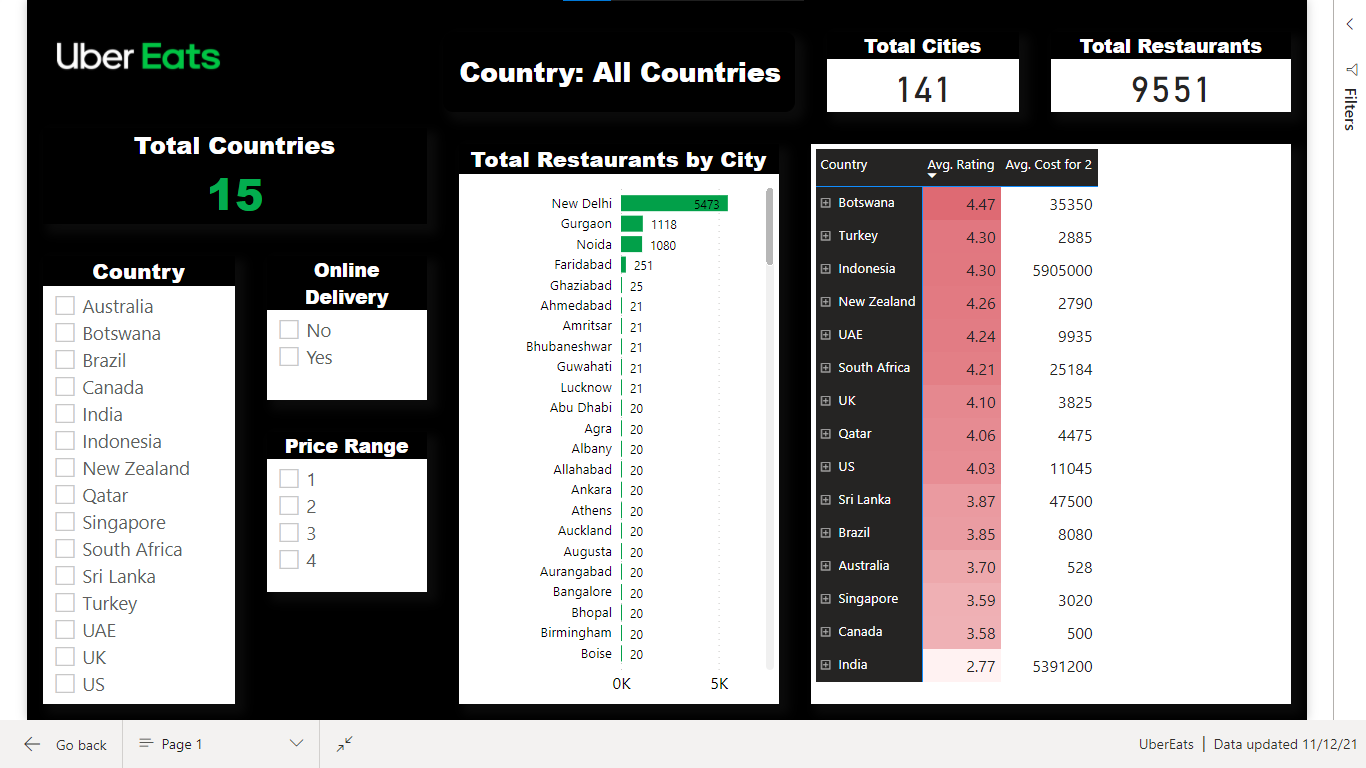

Layout of this report page (visuals, bound fields, positions):
{"tool":"powerbi","page":{"name":"Page 1","canvas":[1280,720],"ordinal":0},"visuals":[{"type":"card","title":"Total Restaurants","fields":{"Values":["Count(ZomatoData.RestaurantID)"]},"box":[1024,32,240,80],"z":0},{"type":"card","title":"Total Countries","fields":{"Values":["Count(ZomatoData.CountryCode)"]},"box":[16,128,384,96],"z":1000},{"type":"card","title":"Total Cities","fields":{"Values":["Count(ZomatoData.City)"]},"box":[800,32,192,80],"z":2000},{"type":"slicer","title":"Country","fields":{"Values":["ZomatoData.Country"]},"box":[16,256,192,448],"z":3000},{"type":"slicer","title":"Price Range","fields":{"Values":["ZomatoData.Price_range"]},"box":[240,432,160,160],"z":4000},{"type":"slicer","title":"Online Delivery","fields":{"Values":["ZomatoData.Has_Online_delivery"]},"box":[240,256,160,144],"z":5000},{"type":"clusteredBarChart","title":"Total Restaurants by City","fields":{"Category":["ZomatoData.City"],"Y":["CountNonNull(ZomatoData.RestaurantID)"]},"box":[432,144,320,560],"z":6000},{"type":"card","fields":{"Values":["All Measures.Selected Country"]},"box":[416,32,352,80],"z":7000},{"type":"pivotTable","fields":{"Rows":["ZomatoData.Country","ZomatoData.RestaurantName"],"Values":["Avg(ZomatoData.Rating)","Sum(ZomatoData.Average_Cost_for_two)"]},"box":[784,144,480,560],"z":8000},{"type":"image","box":[16,0,192,112],"z":9000}]}

Visuals, with their boxes in screenshot pixels (x1, y1, x2, y2):
"Total Restaurants" card: [left=1057, top=32, right=1301, bottom=114]
"Total Countries" card: [left=34, top=130, right=424, bottom=227]
"Total Cities" card: [left=830, top=32, right=1025, bottom=114]
"Country" slicer: [left=34, top=260, right=229, bottom=715]
"Price Range" slicer: [left=261, top=439, right=424, bottom=601]
"Online Delivery" slicer: [left=261, top=260, right=424, bottom=406]
"Total Restaurants by City" clusteredBarChart: [left=456, top=146, right=781, bottom=715]
card - All Measures.Selected Country: [left=440, top=32, right=797, bottom=114]
pivotTable - ZomatoData.Country x ZomatoData.RestaurantName: [left=814, top=146, right=1301, bottom=715]
image: [left=34, top=0, right=229, bottom=114]
